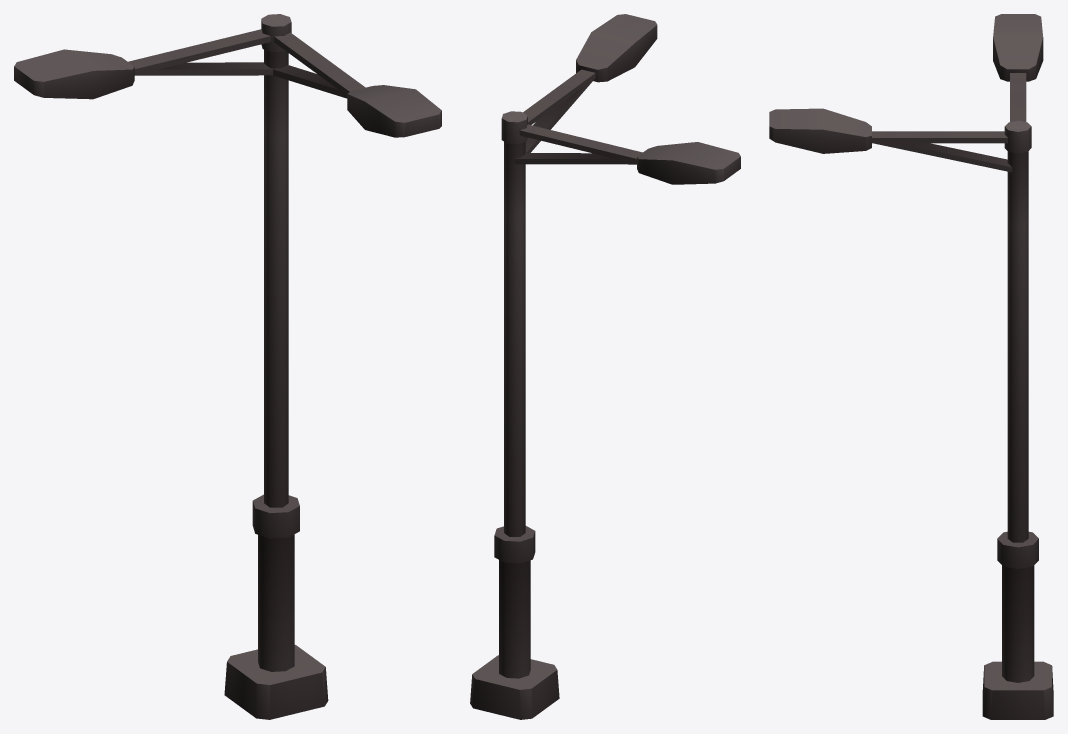
The model's file is Streetlight_5C.fbx.
The picture shows the model from 3 angles, left to right: view 1: azimuth 30°, elevation 25°; view 2: azimuth 150°, elevation 25°; view 3: azimuth 270°, elevation 25°; orthographic projection. The views are drawn at different scales.
Visible parts, largest first — view 1: Streetlight_5C; view 2: Streetlight_5C; view 3: Streetlight_5C.
Part boxes in pixels (x1,y1,x2,y2): Streetlight_5C: (14,14,441,719); Streetlight_5C: (470,14,740,719); Streetlight_5C: (769,14,1053,719).
Size of the model in its own units: 356 by 810 by 356.
